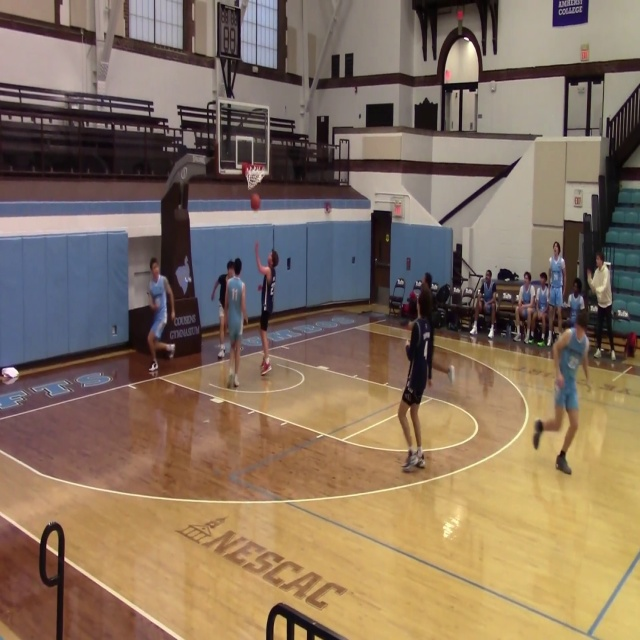Basketball: (2, 367, 18, 379), (268, 250, 279, 267), (250, 193, 260, 210)
